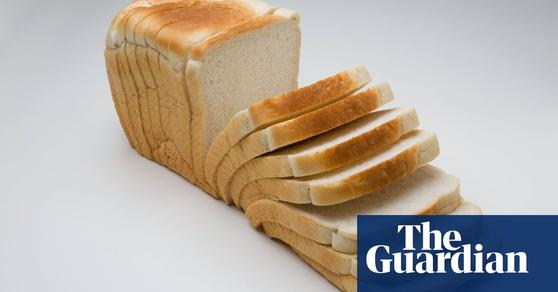white_bread: (102, 3, 305, 204)
